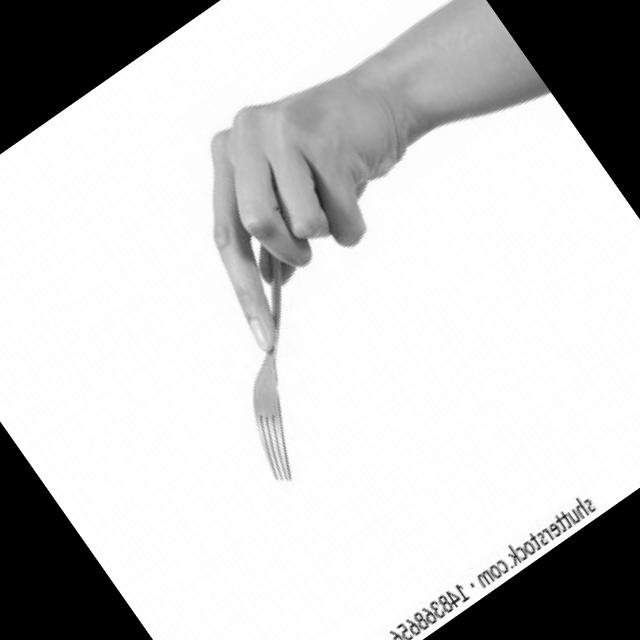fork: (131, 174, 432, 492)
